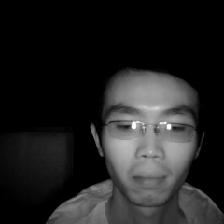sad: (82, 43, 205, 208)
